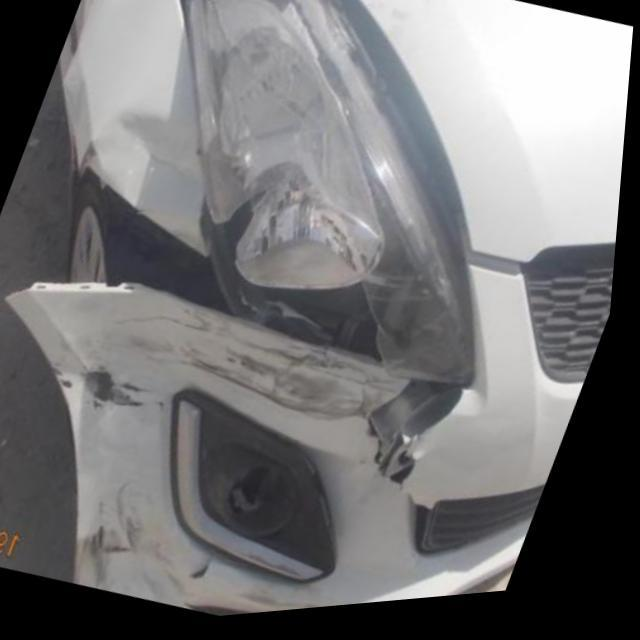crack: (361, 414, 456, 504)
dent: (88, 107, 218, 255)
dislocated part: (5, 163, 254, 336)
lamp broken: (196, 166, 406, 372)
